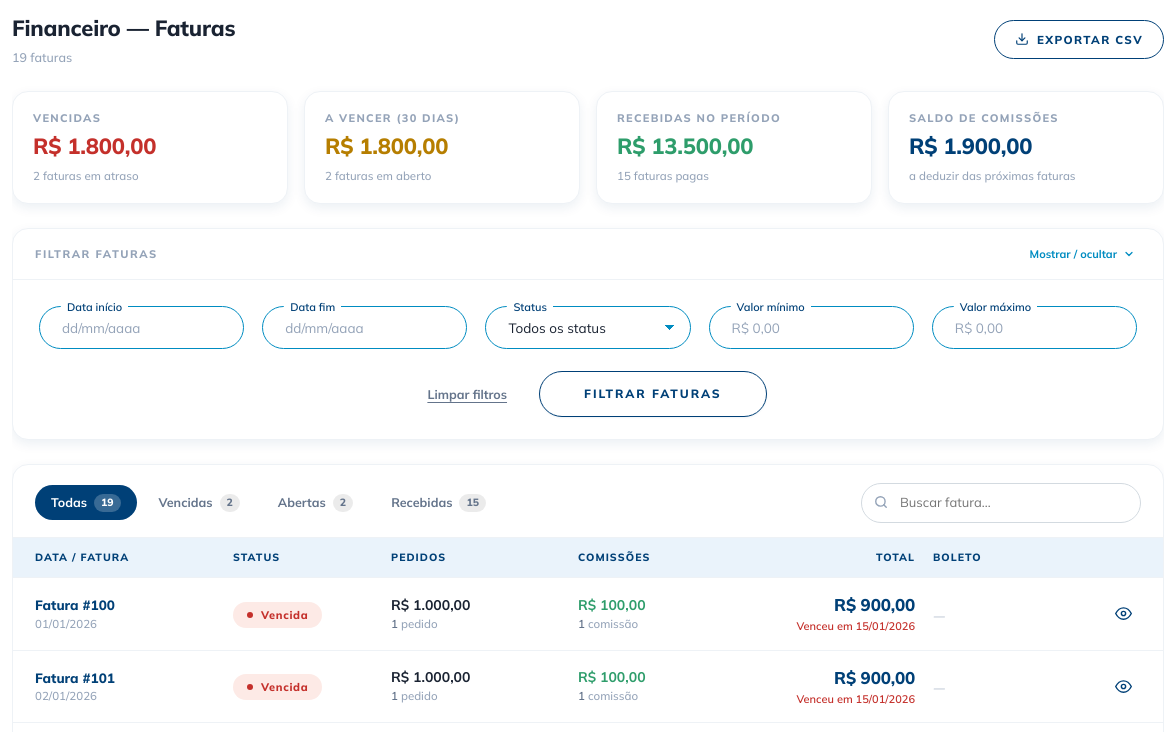
FinanceiroListSection › busca por ID filtra lista corretamente
Type "102" into the search field with placeholder "Buscar fatura..." at (1001, 503), box top-left (861, 483), bottom-right (1141, 522)
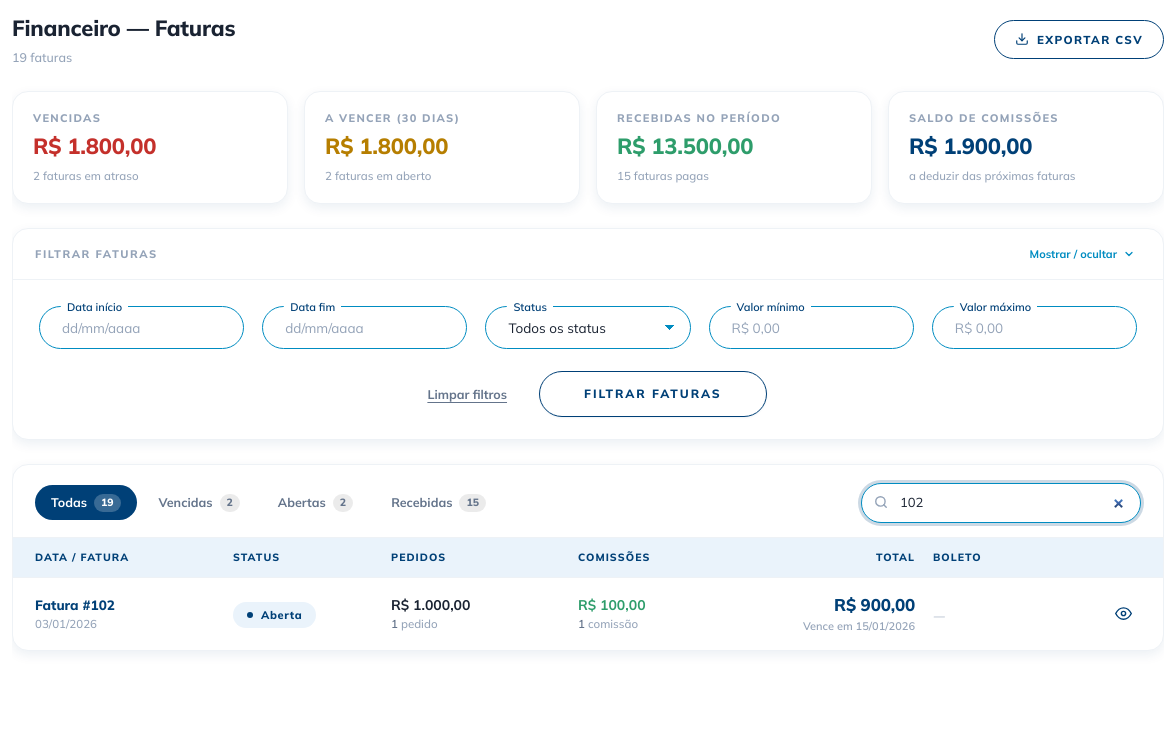
Expected: the text "Fatura #102" is shown, top-left (35, 596), bottom-right (115, 613)
Result: the text "Fatura #100" is gone
